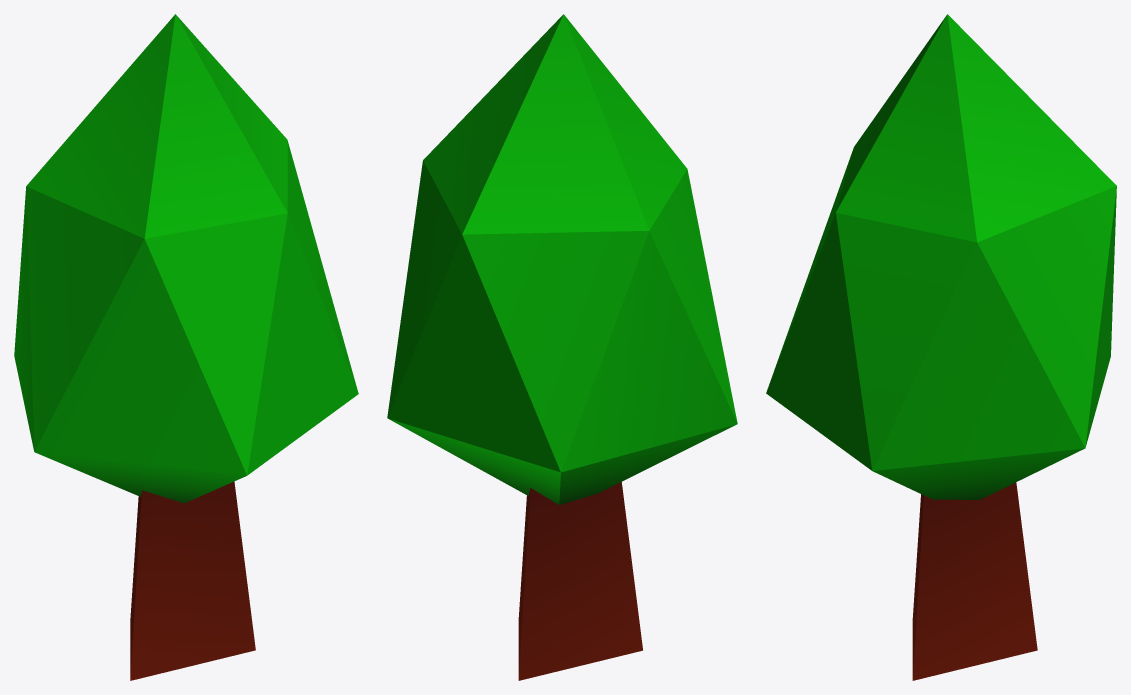
Rendered from tree5.fbx.
The picture shows the model from 3 angles, left to right: view 1: azimuth 30°, elevation 25°; view 2: azimuth 150°, elevation 25°; view 3: azimuth 270°, elevation 25°; orthographic projection.
Parts seen in each view (by area): view 1: tree.008; view 2: tree.008; view 3: tree.008.
Part boxes in pixels (box(x1,y1,x2,y2)): tree.008: box(14, 14, 358, 680); tree.008: box(387, 14, 737, 680); tree.008: box(766, 14, 1116, 680).
Bounding box in the file's own units: 419 × 842 × 421.
